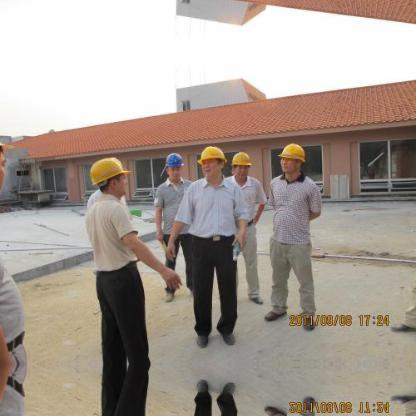helmet: (85, 154, 135, 190), (278, 137, 314, 168), (193, 144, 232, 167), (161, 148, 188, 171), (227, 149, 256, 170)
